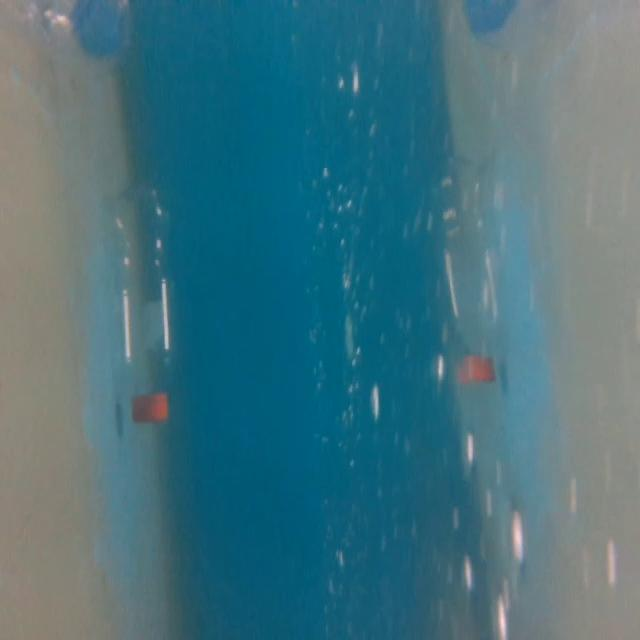plastic bottle: (100, 175, 196, 433)
